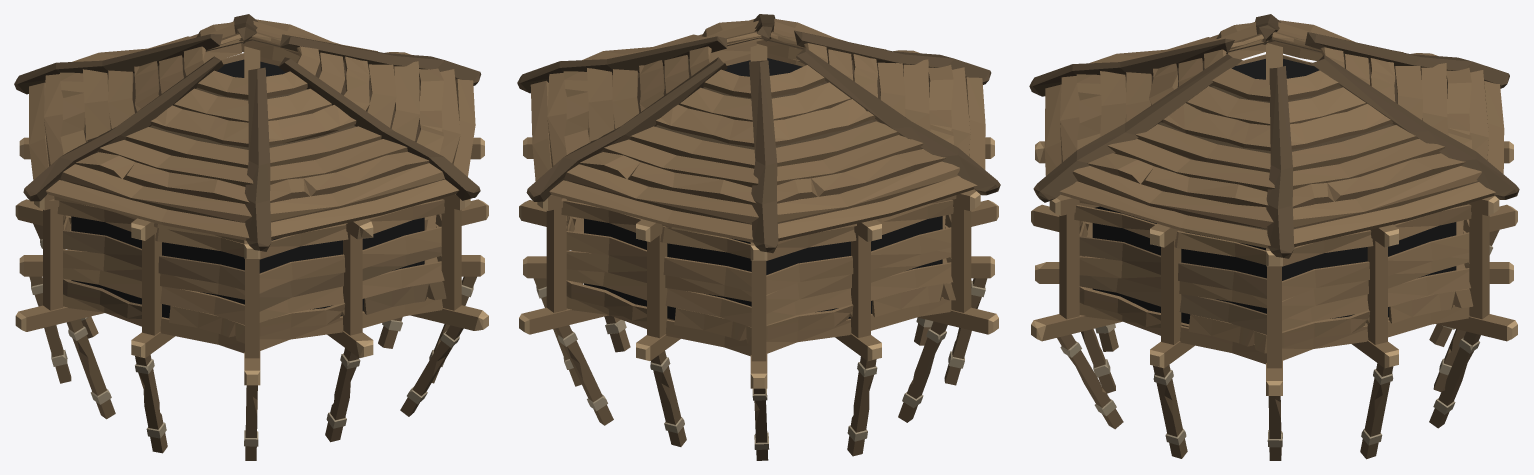
File: SM_Bld_Castle_Wood_Battlement_01.gltf
The picture shows the model from 3 angles, left to right: view 1: azimuth 30°, elevation 25°; view 2: azimuth 150°, elevation 25°; view 3: azimuth 270°, elevation 25°; orthographic projection. The views are drawn at different scales.
Parts seen in each view (by area): view 1: SM_Bld_Castle_Wood_Battlement_01; view 2: SM_Bld_Castle_Wood_Battlement_01; view 3: SM_Bld_Castle_Wood_Battlement_01.
Boxes of the visible parts, x1,y1,x2,y2 form: SM_Bld_Castle_Wood_Battlement_01: [14, 14, 488, 460]; SM_Bld_Castle_Wood_Battlement_01: [517, 14, 1000, 460]; SM_Bld_Castle_Wood_Battlement_01: [1029, 14, 1519, 460].
Size of the model in its own units: 5.32 by 3.67 by 4.7.
1 material, 1 textured.
